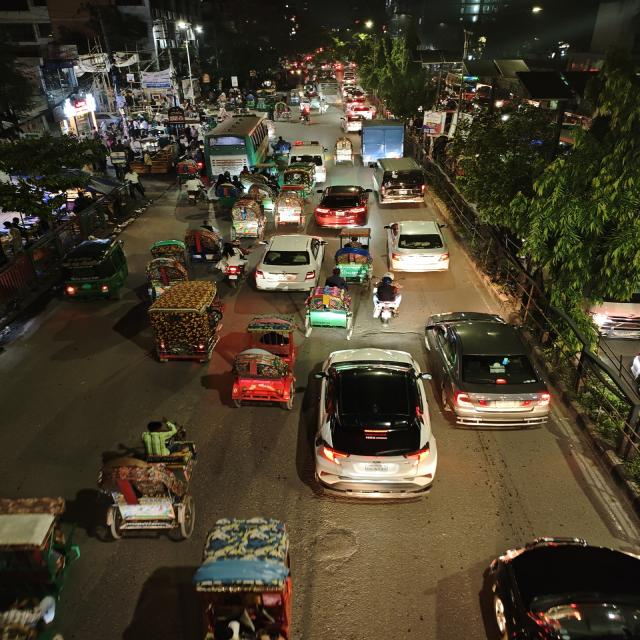bus: (200, 114, 275, 172), (318, 80, 340, 102)
car: (308, 346, 440, 508), (421, 308, 554, 432), (251, 234, 329, 292), (382, 218, 452, 276), (369, 157, 429, 204), (312, 184, 369, 228), (283, 141, 329, 167), (346, 101, 376, 117), (340, 115, 364, 133)
cng: (478, 534, 640, 640), (55, 235, 132, 304)
motorcycle: (368, 274, 408, 324), (216, 245, 248, 285), (178, 173, 204, 210), (297, 108, 313, 125)
rickshaw: (186, 512, 307, 640), (88, 415, 205, 544), (0, 490, 91, 639), (217, 317, 304, 412), (140, 279, 222, 365), (299, 273, 359, 335), (142, 240, 189, 296), (333, 241, 374, 282), (185, 220, 223, 262), (228, 200, 266, 240), (273, 189, 308, 229), (243, 170, 274, 210), (282, 162, 315, 196), (209, 177, 242, 211), (331, 137, 355, 165), (274, 101, 292, 120)
truck: (358, 119, 409, 163)
